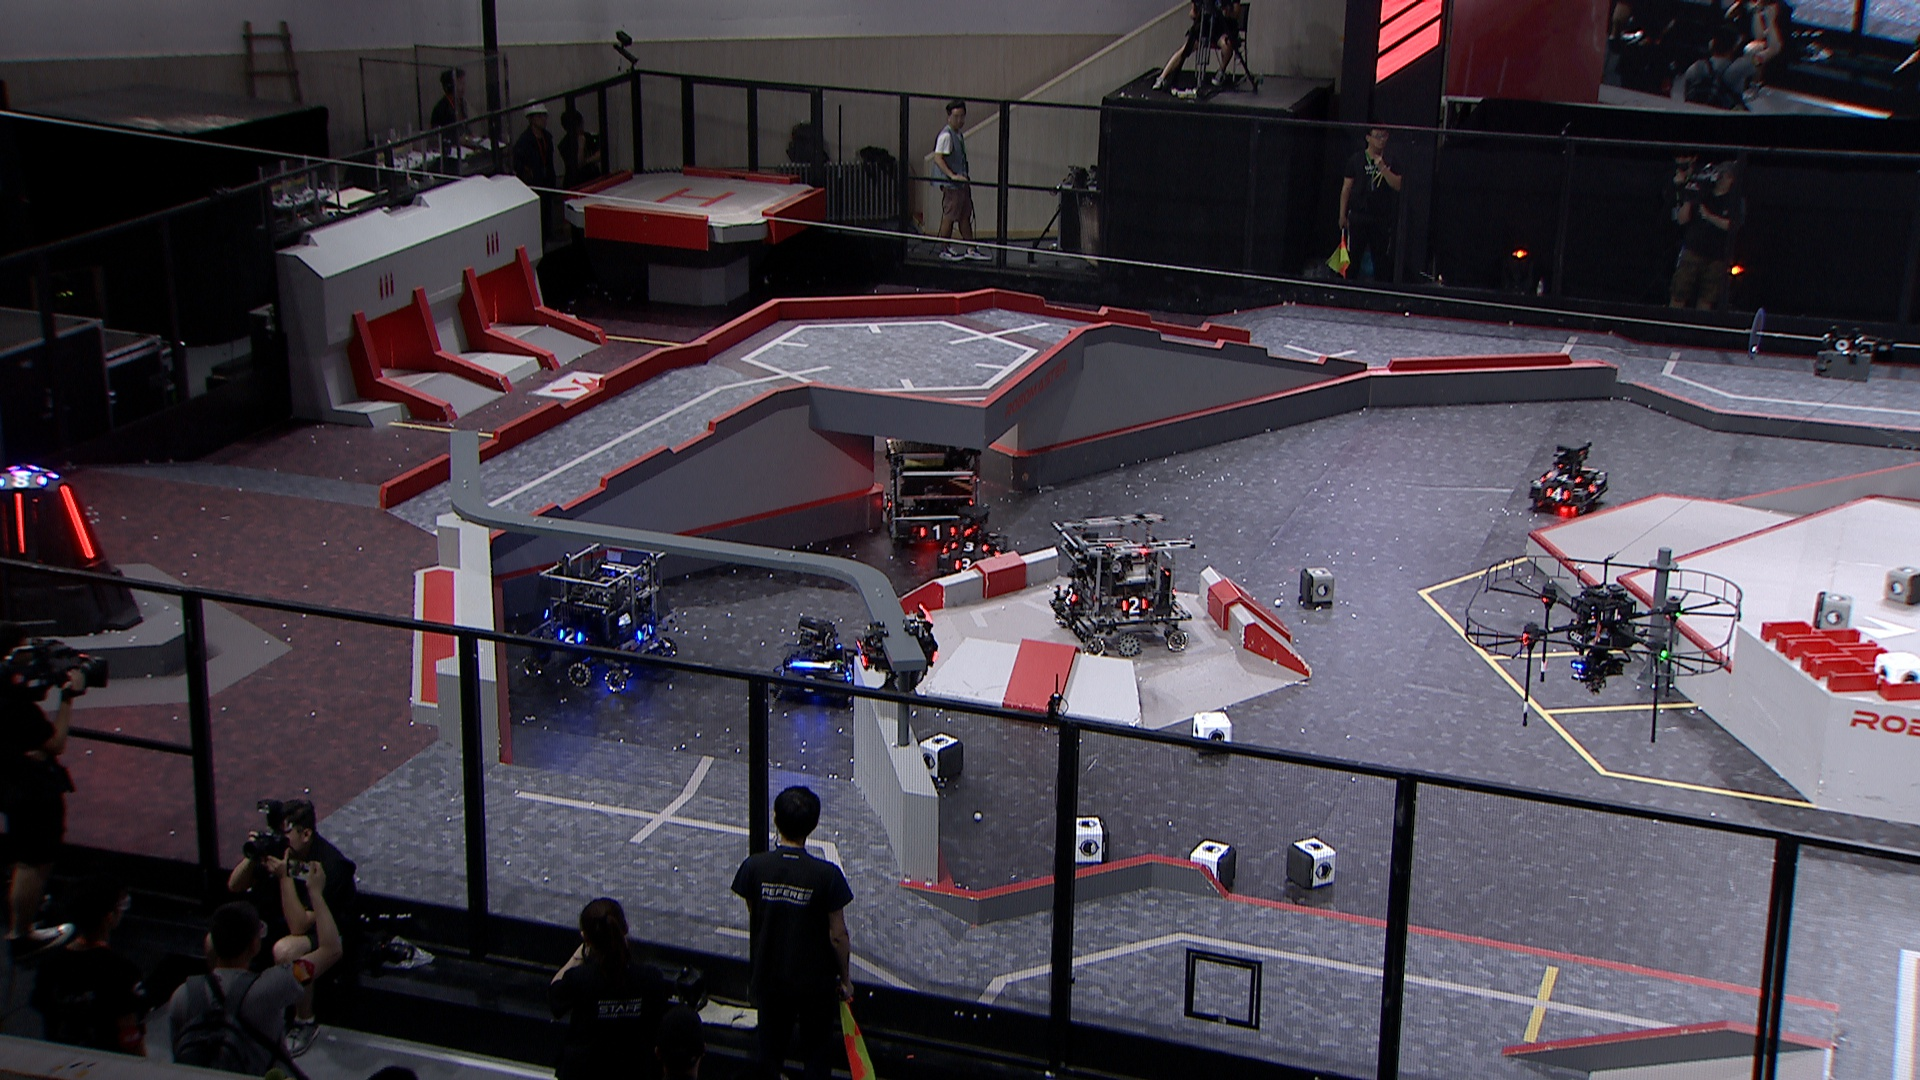armor: (58, 483, 98, 560), (11, 491, 26, 555), (918, 524, 955, 541), (556, 624, 585, 644), (636, 622, 659, 644), (793, 673, 822, 690), (840, 657, 856, 687), (851, 640, 865, 673), (1120, 597, 1149, 613), (951, 556, 977, 574), (951, 541, 986, 551), (1544, 472, 1577, 483), (1063, 588, 1077, 607), (1547, 489, 1569, 501), (1588, 477, 1600, 495), (992, 543, 1006, 556)
car: (1044, 505, 1196, 659), (517, 542, 675, 687), (876, 433, 982, 546), (765, 613, 858, 713), (1524, 439, 1613, 520), (938, 520, 1013, 588)
ignore: (1, 467, 40, 489)
watcher: (847, 600, 939, 703)
